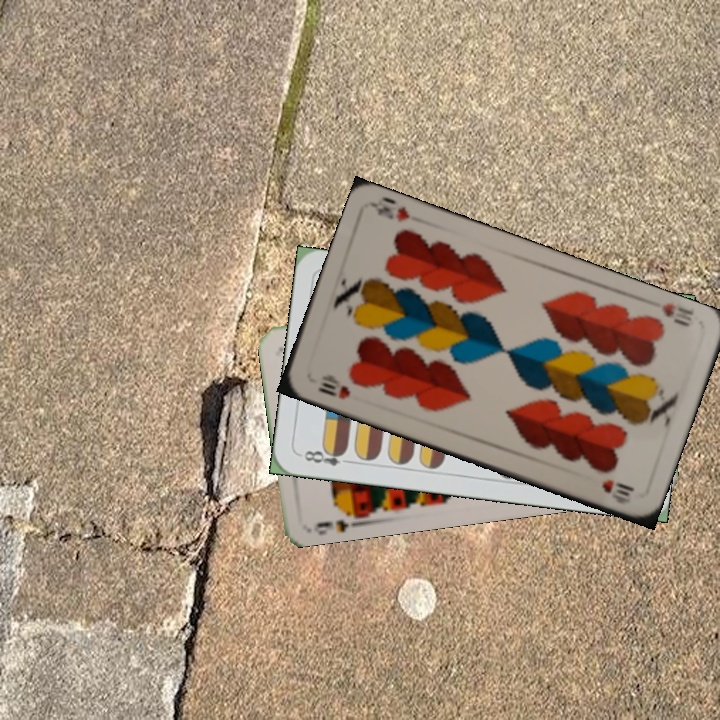E8: (300, 444, 356, 469)
H10: (313, 371, 353, 402), (658, 299, 696, 330)
S9: (310, 504, 366, 536)
